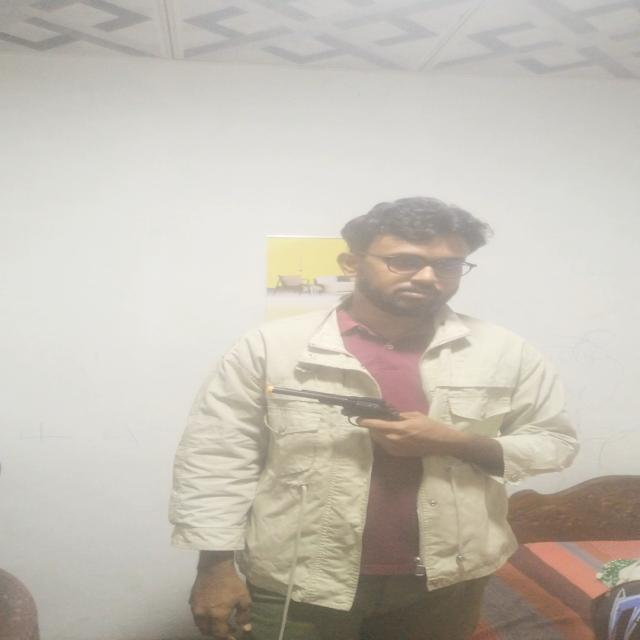Gun_Holder: (259, 377, 443, 453)
Jacket_Wearer: (172, 312, 597, 585)
Person: (169, 187, 597, 640)
